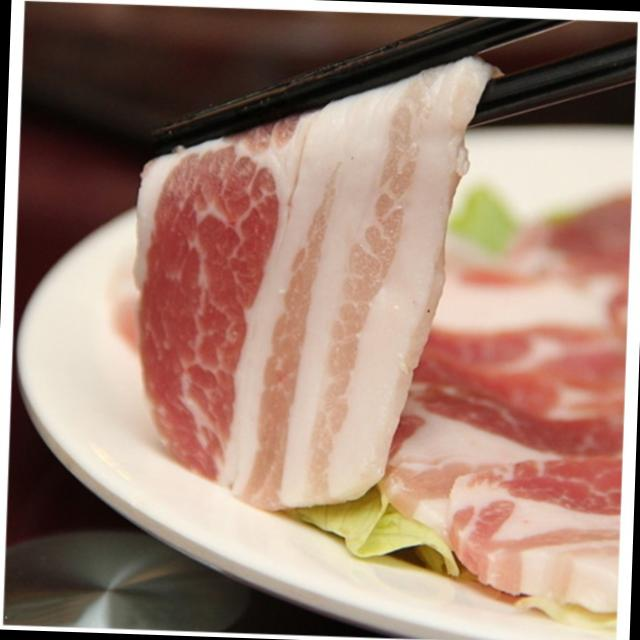pork: (132, 130, 438, 502)
